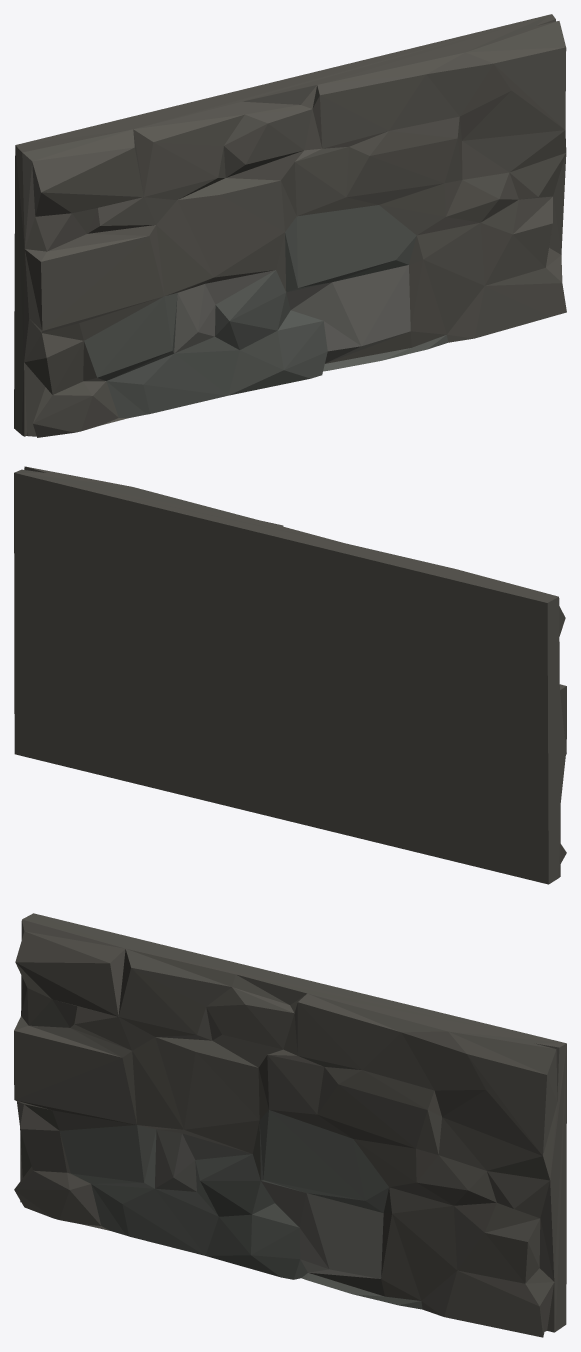
Rendered from MDungeons_Walls_Base_BottomHalf.FBX.
The picture shows the model from 3 angles, top to bottom: view 1: azimuth 30°, elevation 25°; view 2: azimuth 150°, elevation 25°; view 3: azimuth 330°, elevation 25°; orthographic projection.
Visible parts, largest first — view 1: MDungeons_Walls_Base_BottomHalf_LOD0; view 2: MDungeons_Walls_Base_BottomHalf_LOD0; view 3: MDungeons_Walls_Base_BottomHalf_LOD0.
Boxes of the visible parts, x1=… form: MDungeons_Walls_Base_BottomHalf_LOD0: x1=14, y1=14, x2=566, y2=437; MDungeons_Walls_Base_BottomHalf_LOD0: x1=14, y1=466, x2=566, y2=884; MDungeons_Walls_Base_BottomHalf_LOD0: x1=14, y1=913, x2=566, y2=1337.
Size of what is drawn, in the model's own units: 6.04 by 3.03 by 0.4979.
